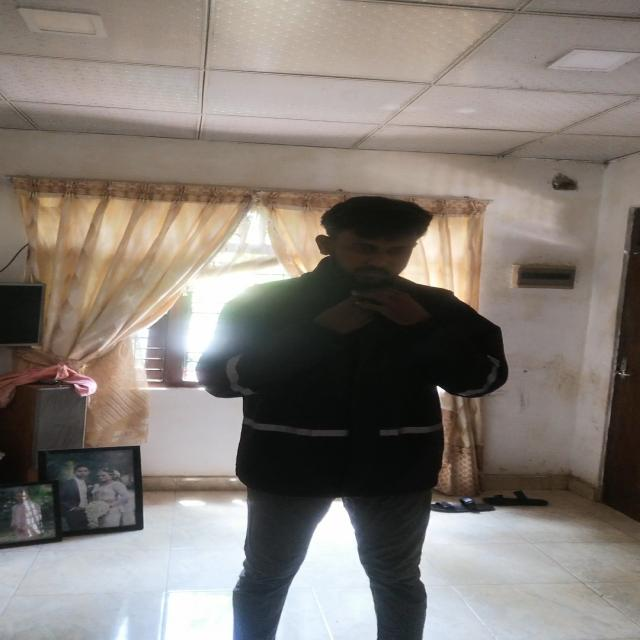Jacket_Wearer: (205, 264, 514, 503)
Person: (200, 193, 510, 640)
